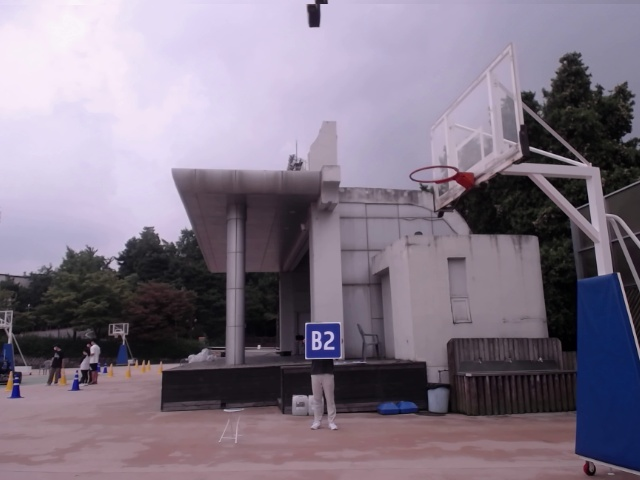delivery_b2: (305, 322, 341, 358)
